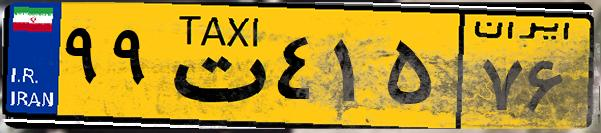1: (330, 28, 385, 110)
4: (270, 28, 330, 110)
5: (385, 28, 445, 110)
6: (525, 38, 570, 115)
7: (475, 38, 525, 113)
9: (57, 26, 110, 100), (110, 28, 158, 98)
ت: (158, 12, 270, 120)
